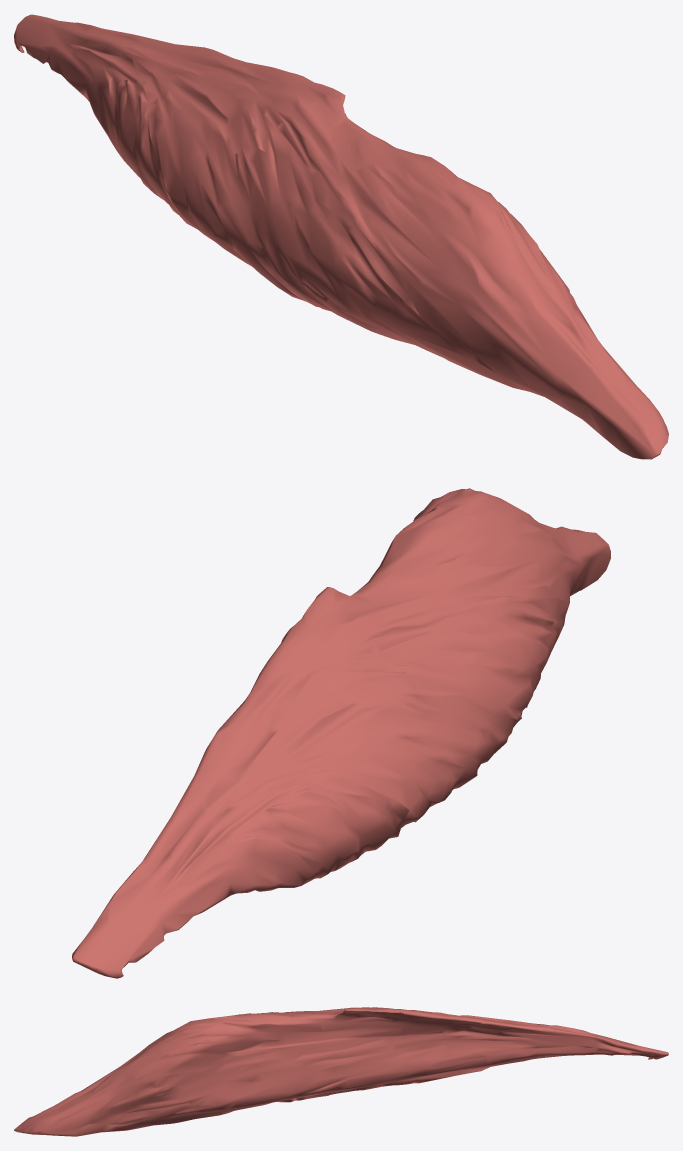
3 views of the same model, one above another, from view 1: azimuth 30°, elevation 25°; view 2: azimuth 150°, elevation 25°; view 3: azimuth 270°, elevation 25° (orthographic). The views are drawn at different scales.
Parts seen in each view (by area): view 1: 右侧肱三头肌外侧头; view 2: 右侧肱三头肌外侧头; view 3: 右侧肱三头肌外侧头.
Part boxes in pixels (x1,y1,x2,y2): 右侧肱三头肌外侧头: (14,14,668,459); 右侧肱三头肌外侧头: (72,488,610,978); 右侧肱三头肌外侧头: (14,1007,668,1136).
Size of the model in its own units: 0.0828 by 0.0747 by 0.3901.
